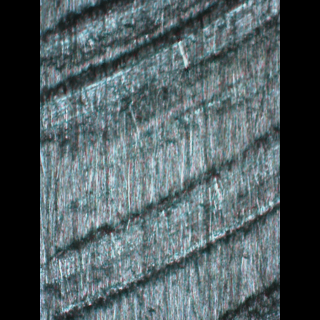d: (40, 124, 277, 320), (42, 2, 279, 137)
